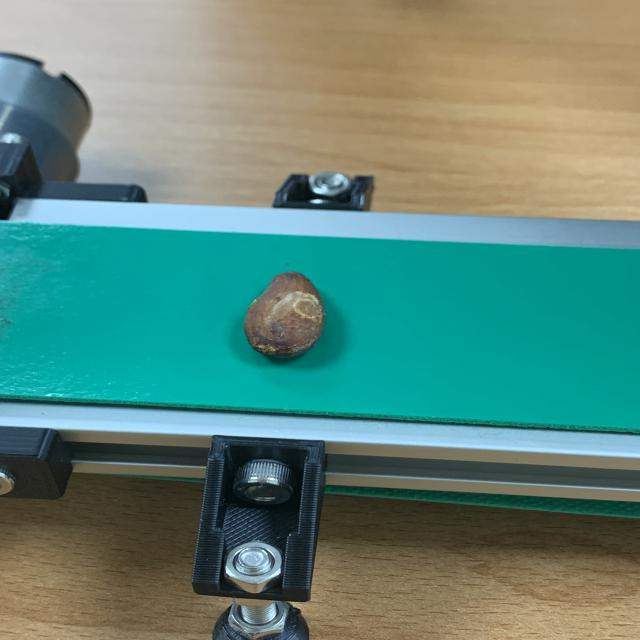Fine_cocoabeans: (168, 255, 400, 386)
